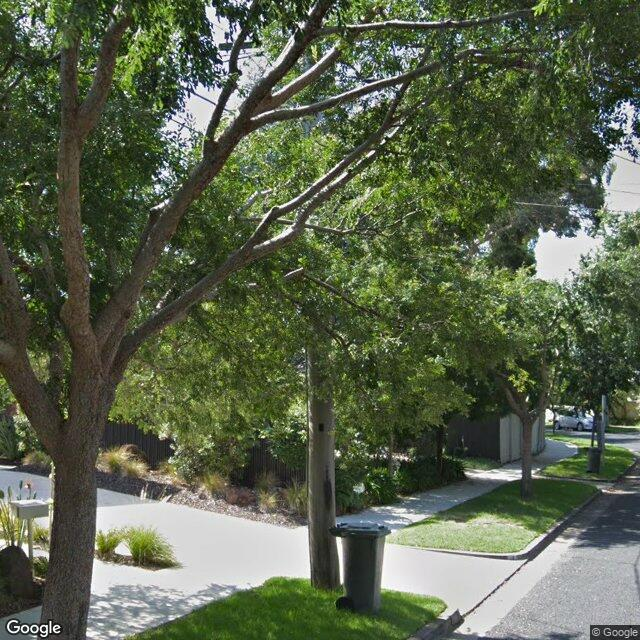timber-pole: (306, 322, 340, 590)
